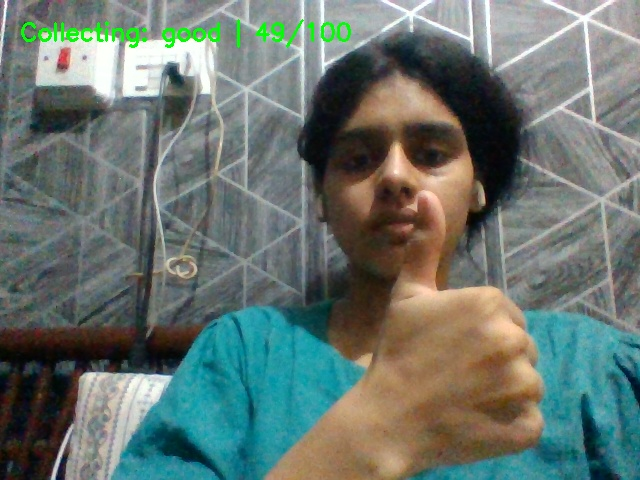good: (372, 183, 604, 480)
